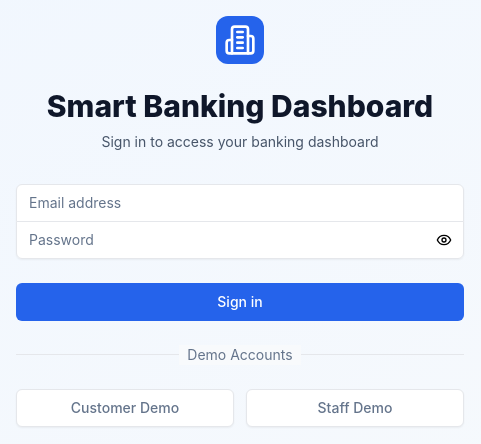
Test: Login Component › fills form with customer demo credentials
The image size is (481, 444).
Click the button "Customer Demo" at (125, 408), box [16,388,234,426]
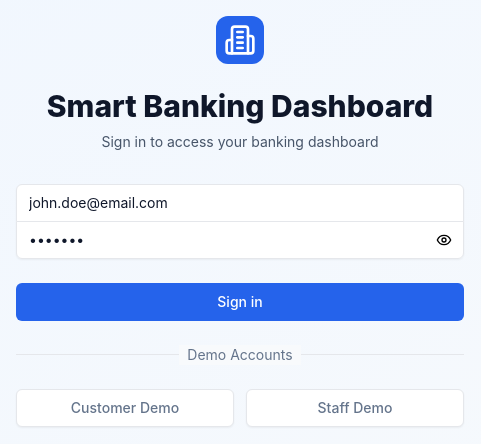
Now the field with placeholder "Email address" holds "john.doe@email.com", box [16,184,464,222]
Now the password field with placeholder "Password" holds "demo123", box [16,220,464,258]
